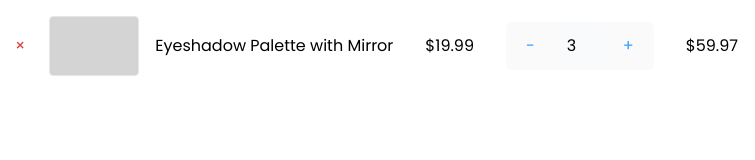
Scenario: CartItemRow › should revert optimistic quantity on API error during quantity update
expect the number field named "quantity input" holds "3": met, box [555, 22, 603, 70]
Click the button named "decrement" at (530, 46), box [506, 22, 555, 70]
Wait 1000 ms
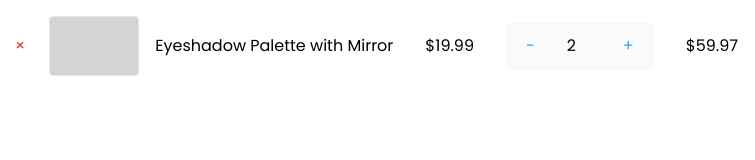
expect the number field named "quantity input" holds "2": met, box [555, 22, 603, 70]
